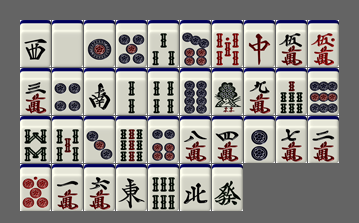0m: (308, 20, 339, 67)
0p: (20, 164, 51, 211)
0s: (212, 20, 243, 67)
1m: (52, 164, 83, 211)
1p: (84, 20, 115, 67)
1s: (212, 68, 243, 115)
1z: (116, 164, 147, 211)
2m: (308, 116, 339, 163)
2p: (244, 116, 275, 163)
2s: (116, 68, 147, 115)
2z: (84, 68, 115, 115)
3m: (20, 68, 51, 115)
3p: (84, 116, 115, 163)
3s: (148, 20, 179, 67)
3z: (20, 20, 51, 67)
4m: (212, 116, 243, 163)
4p: (52, 68, 83, 115)
4s: (148, 68, 179, 115)
4z: (180, 164, 211, 211)
5m: (276, 20, 307, 67)
5p: (116, 20, 147, 67)
5s: (52, 116, 83, 163)
5z: (52, 20, 83, 67)
6m: (84, 164, 115, 211)
6p: (148, 116, 179, 163)
6s: (148, 164, 179, 211)
6z: (212, 164, 243, 211)
7m: (276, 116, 307, 163)
7p: (180, 20, 211, 67)
7s: (276, 68, 307, 115)
7z: (244, 20, 275, 67)
8m: (180, 116, 211, 163)
8p: (180, 68, 211, 115)
8s: (20, 116, 51, 163)
9m: (244, 68, 275, 115)
9p: (308, 68, 339, 115)
9s: (116, 116, 147, 163)
